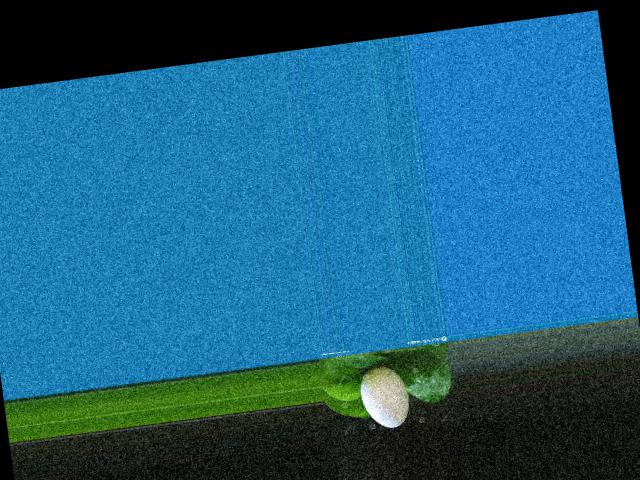egg: (357, 363, 411, 431)
